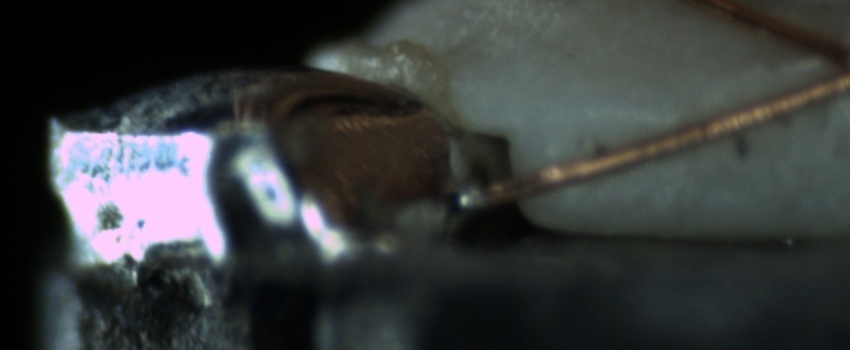DL: (561, 88, 701, 142)
